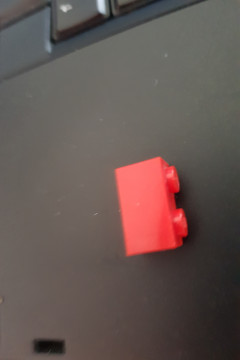1x2 red: (114, 156, 189, 256)
